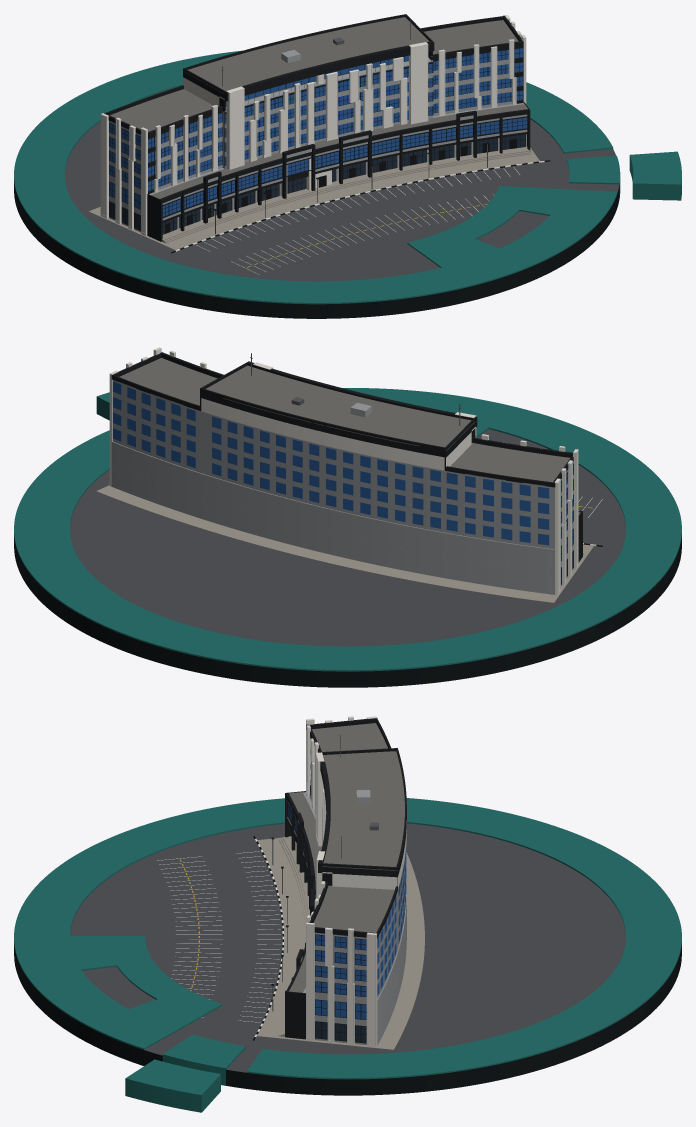
File: golden-square.glb
The picture shows the model from 3 angles, top to bottom: view 1: azimuth 30°, elevation 25°; view 2: azimuth 150°, elevation 25°; view 3: azimuth 270°, elevation 25°; orthographic projection. The views are drawn at different scales.
Parts seen in each view (by area): view 1: Site, BrandRing, Crown, Fins, Floor_P, Floor_G, LED, Floor_4, Floor_2, Floor_3, Floor_1, Floor_Roof; view 2: Site, BrandRing, Crown, Floor_P, Floor_G, Floor_1, Floor_3, Floor_2, Floor_4, Floor_Roof, Fins, LED; view 3: Site, BrandRing, Crown, Fins, Floor_P, LED, Floor_G, Floor_2, Floor_1, Floor_3, Floor_4, Floor_Roof.
Part boxes in pixels (box(x1,y1,x2,y2)): Site: box(14, 89, 619, 318); BrandRing: box(14, 50, 681, 304); Crown: box(104, 14, 527, 198); Fins: box(100, 15, 526, 235); Floor_P: box(109, 102, 530, 241); Floor_G: box(109, 129, 527, 234); LED: box(101, 18, 516, 233); Floor_4: box(109, 46, 523, 151); Floor_2: box(109, 74, 523, 180); Floor_3: box(109, 60, 523, 165); Floor_1: box(109, 88, 523, 193); Floor_Roof: box(183, 55, 432, 112); Site: box(14, 429, 681, 687); BrandRing: box(14, 388, 681, 671); Crown: box(111, 352, 580, 514); Floor_P: box(111, 441, 582, 572); Floor_G: box(111, 465, 573, 594); Floor_1: box(112, 426, 573, 549); Floor_3: box(112, 395, 573, 518); Floor_2: box(112, 410, 573, 533); Floor_4: box(112, 380, 573, 502); Floor_Roof: box(201, 399, 475, 470); Fins: box(109, 347, 578, 595); LED: box(558, 450, 578, 592); Site: box(14, 823, 681, 1095); BrandRing: box(14, 798, 681, 1112); Crown: box(289, 718, 406, 992); Fins: box(306, 716, 377, 1047); Floor_P: box(285, 791, 406, 1039); LED: box(306, 726, 375, 1045); Floor_G: box(286, 816, 406, 1045); Floor_2: box(310, 768, 406, 984); Floor_1: box(309, 783, 406, 999); Floor_3: box(310, 752, 406, 968); Floor_4: box(310, 738, 405, 953); Floor_Roof: box(321, 821, 406, 889).
Bounding box in the file's own units: 156 × 40.6 × 148.
